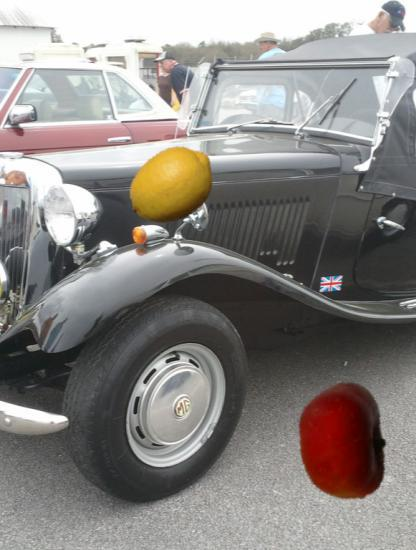Lemon: (128, 139, 220, 231)
Nectarine: (282, 382, 402, 502)
